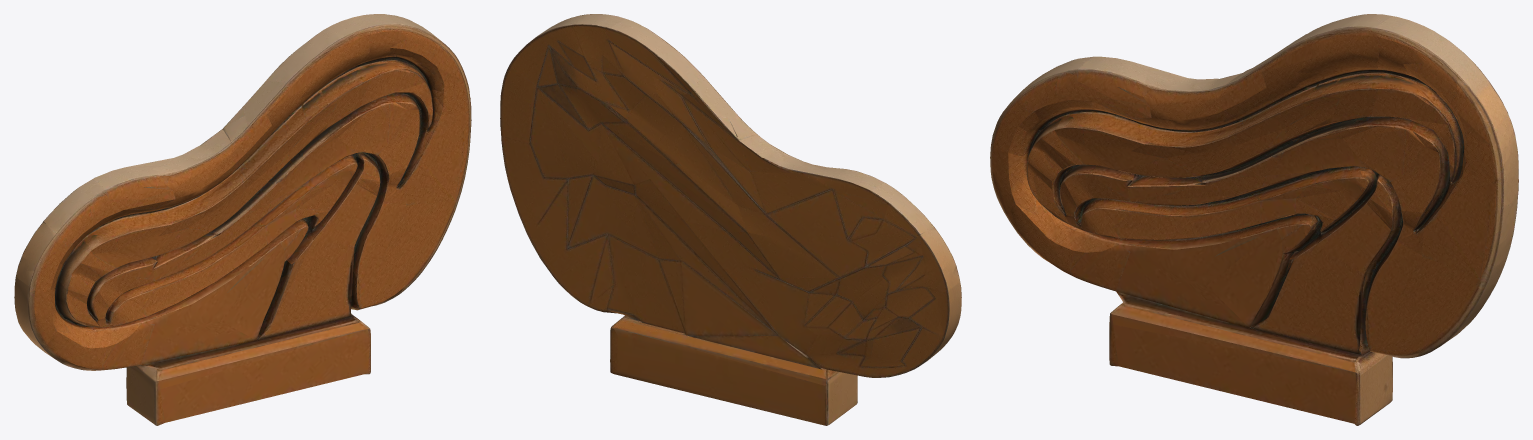
Rendered from water.glb.
The picture shows the model from 3 angles, left to right: view 1: azimuth 30°, elevation 25°; view 2: azimuth 150°, elevation 25°; view 3: azimuth 330°, elevation 25°; orthographic projection. The views are drawn at different scales.
Visible parts, largest first — view 1: mesh_node; view 2: mesh_node; view 3: mesh_node.
Boxes of the visible parts, left/top/right/bottom form: mesh_node: left=14, top=14, right=471, bottom=425; mesh_node: left=500, top=14, right=961, bottom=425; mesh_node: left=990, top=14, right=1518, bottom=425.
Bounding box in the file's own units: 1.9 × 1.38 × 0.2269.
1 material, 1 textured.
